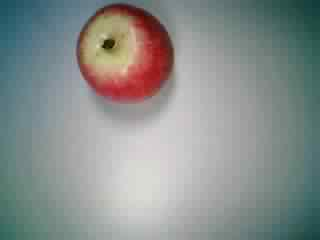apple: (70, 3, 174, 107)
